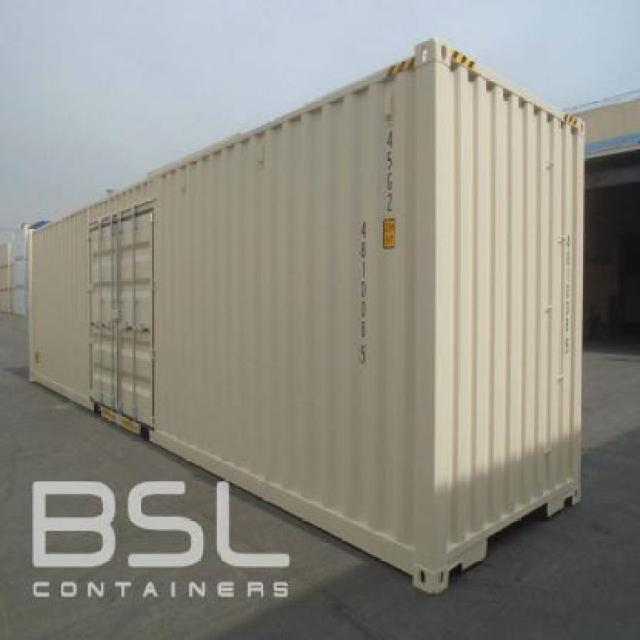container_number: (359, 212, 367, 371)
